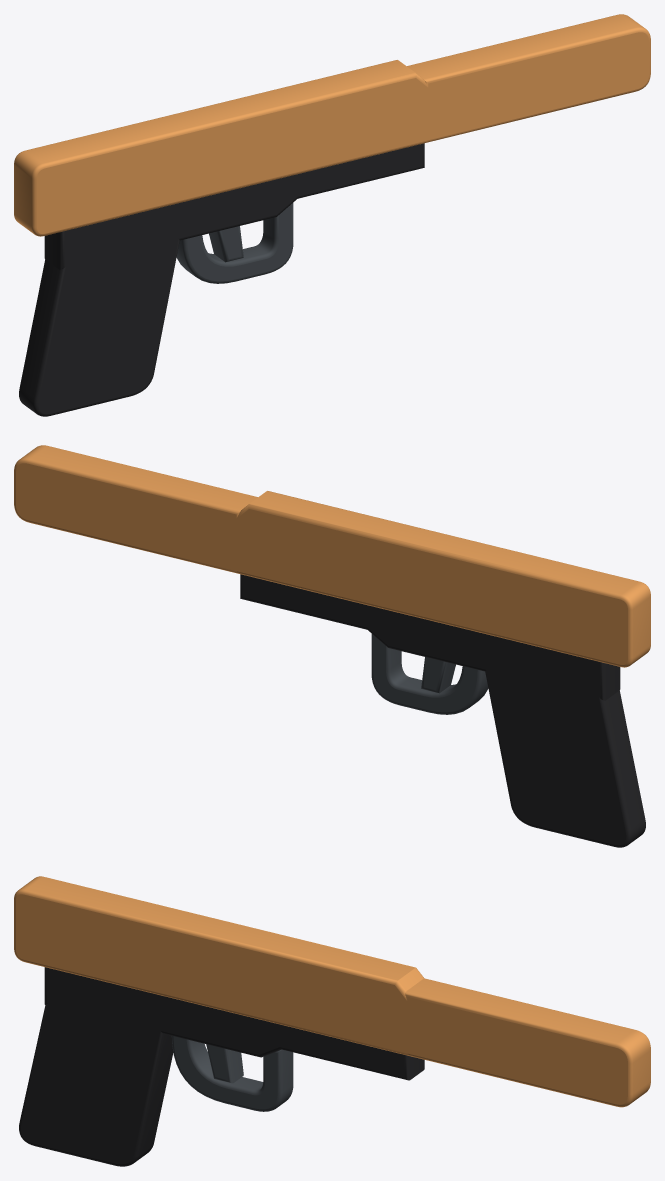
File: usp.glb
3 views of the same model, one above another, from view 1: azimuth 30°, elevation 25°; view 2: azimuth 150°, elevation 25°; view 3: azimuth 330°, elevation 25° (orthographic).
Visible parts, largest first — view 1: paint_0, poly_2, paint_5, poly_1, metal_3, metal_4; view 2: paint_0, poly_2, paint_5, poly_1, metal_3, metal_4; view 3: paint_0, poly_2, paint_5, poly_1, metal_3, metal_4.
Part boxes in pixels (x1,y1,x2,y2): paint_0: [14, 60, 429, 236]; poly_2: [19, 225, 180, 416]; paint_5: [407, 14, 650, 141]; poly_1: [44, 143, 424, 269]; metal_3: [176, 203, 293, 283]; metal_4: [209, 226, 243, 262]; paint_0: [236, 491, 650, 667]; poly_2: [484, 656, 645, 847]; paint_5: [14, 445, 257, 573]; poly_1: [240, 574, 620, 700]; metal_3: [371, 634, 488, 714]; metal_4: [421, 657, 455, 693]; paint_0: [14, 876, 423, 1055]; poly_2: [19, 992, 173, 1166]; paint_5: [405, 978, 650, 1107]; poly_1: [44, 967, 424, 1080]; metal_3: [171, 1036, 293, 1111]; metal_4: [206, 1044, 243, 1083].
Size of the model in its own units: 297 by 117 by 17.55.
